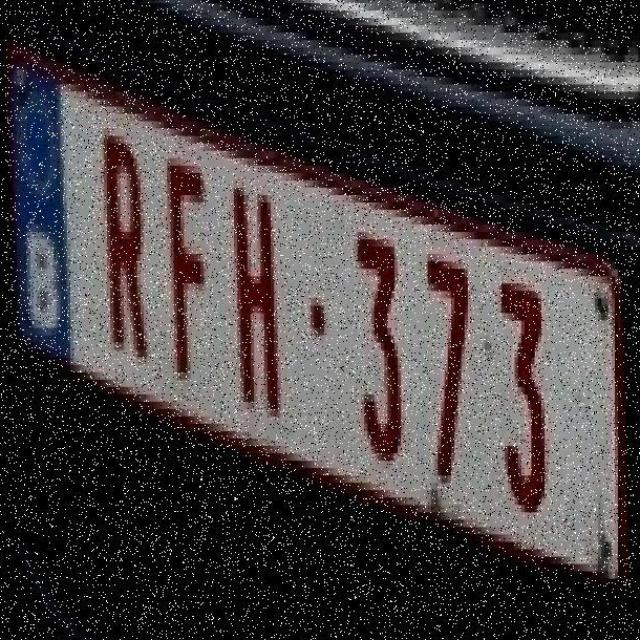LicensePlate: (0, 8, 632, 640)
